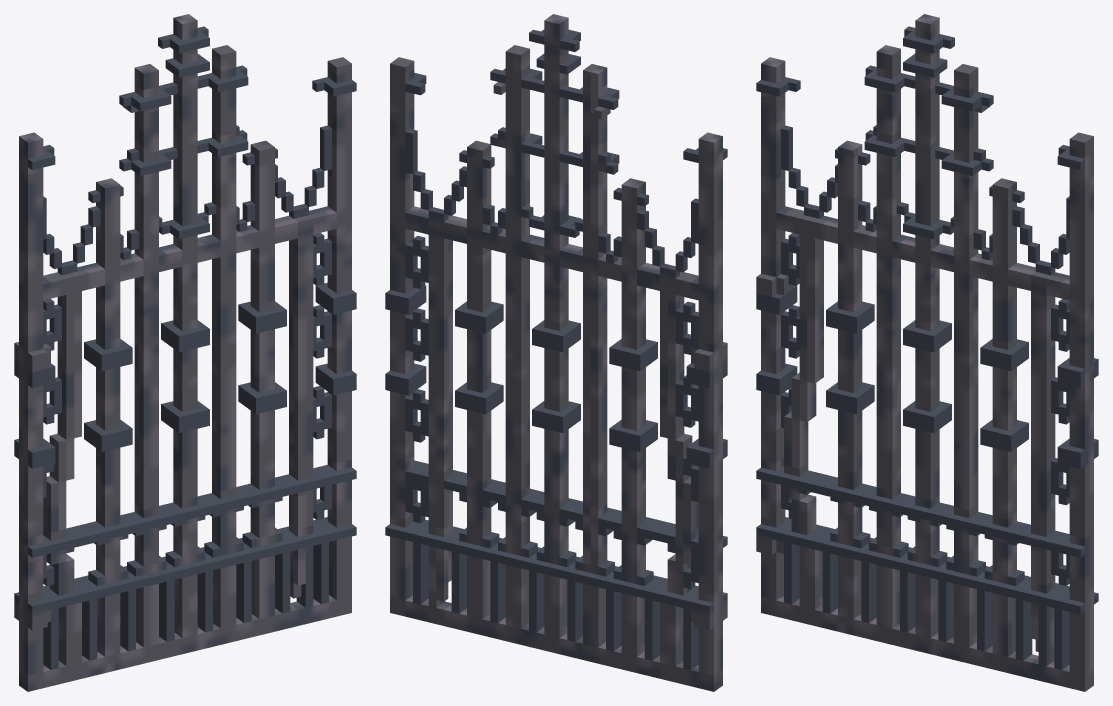
The model's file is FenceModule-8.fbx.
3 views of the same model, side by side, from view 1: azimuth 30°, elevation 25°; view 2: azimuth 150°, elevation 25°; view 3: azimuth 330°, elevation 25° (orthographic).
Parts seen in each view (by area): view 1: FenceModule-8; view 2: FenceModule-8; view 3: FenceModule-8.
Boxes of the visible parts, <box> form: FenceModule-8: <box>14,14,356,691</box>; FenceModule-8: <box>385,14,727,691</box>; FenceModule-8: <box>756,14,1098,691</box>.
Size of the model in its own units: 210 by 390 by 20.
